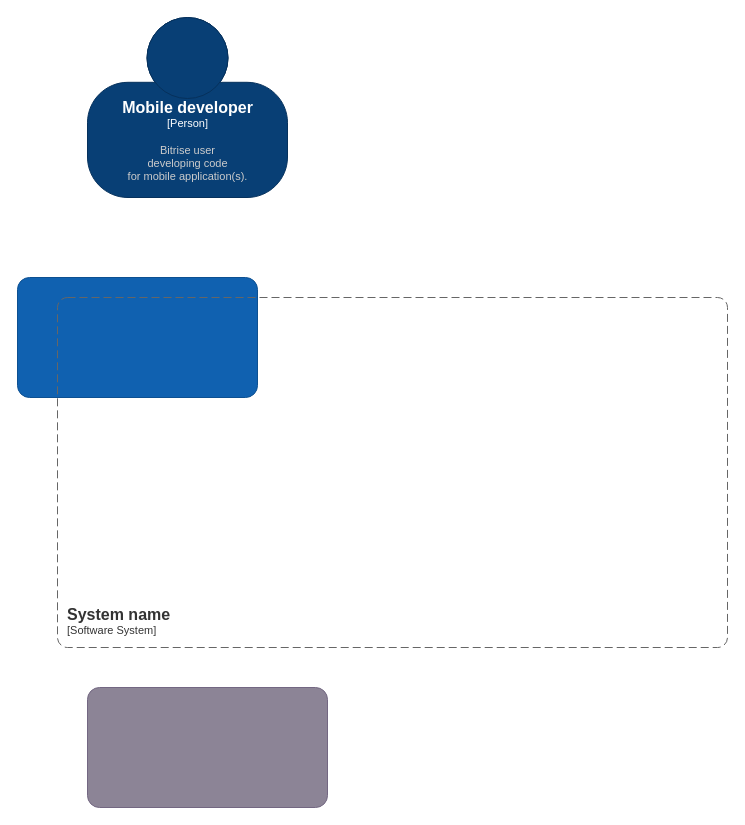
The diagram is 745 pixels wide and 825 high, and some of its shapes have lost their labels. The shapes that lost their labels are listed below. From the top down, each one's box as (x1, y1, x2, y2) in pixels, then its label:
(16, 276, 258, 398): System name [Software System] Description of software system.
(86, 686, 328, 808): External system name [Software System] Description of external software system.
